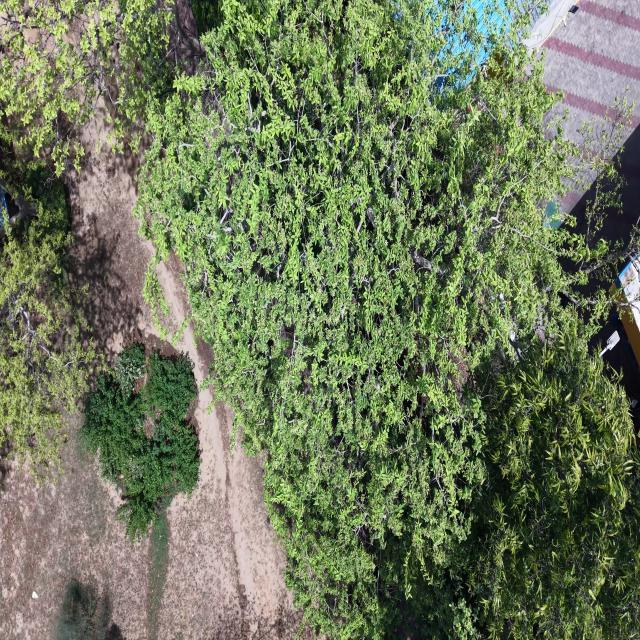DRY_AREA: (0, 390, 299, 639), (0, 391, 298, 639), (159, 389, 299, 638), (0, 416, 148, 639), (0, 417, 148, 639), (541, 0, 639, 243), (68, 151, 152, 360), (544, 0, 639, 149)
VEGETATION_TREE: (0, 0, 639, 639), (137, 0, 610, 638), (0, 0, 172, 477), (396, 318, 639, 639), (457, 322, 639, 639), (0, 0, 200, 176), (0, 0, 173, 175), (0, 166, 94, 479), (81, 344, 199, 541), (54, 580, 109, 639), (147, 512, 169, 638), (191, 0, 221, 34)
